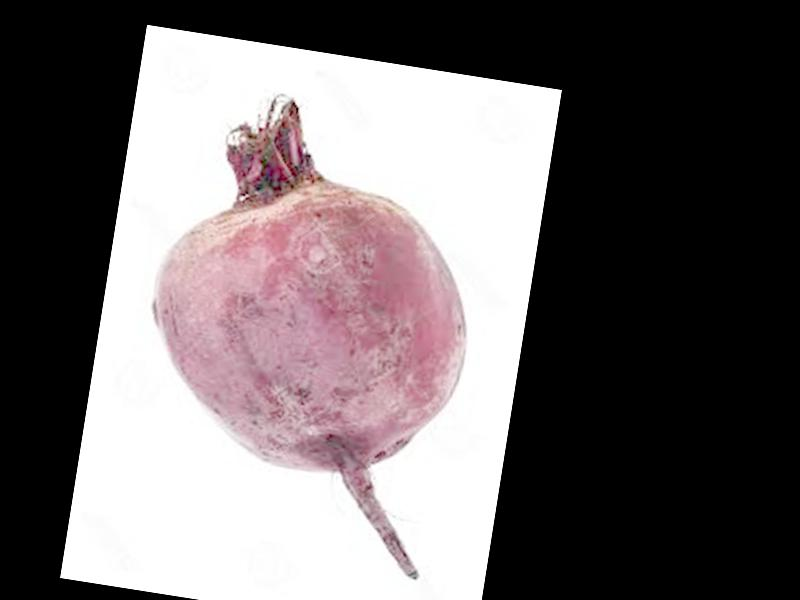Beet: (118, 81, 500, 581)
